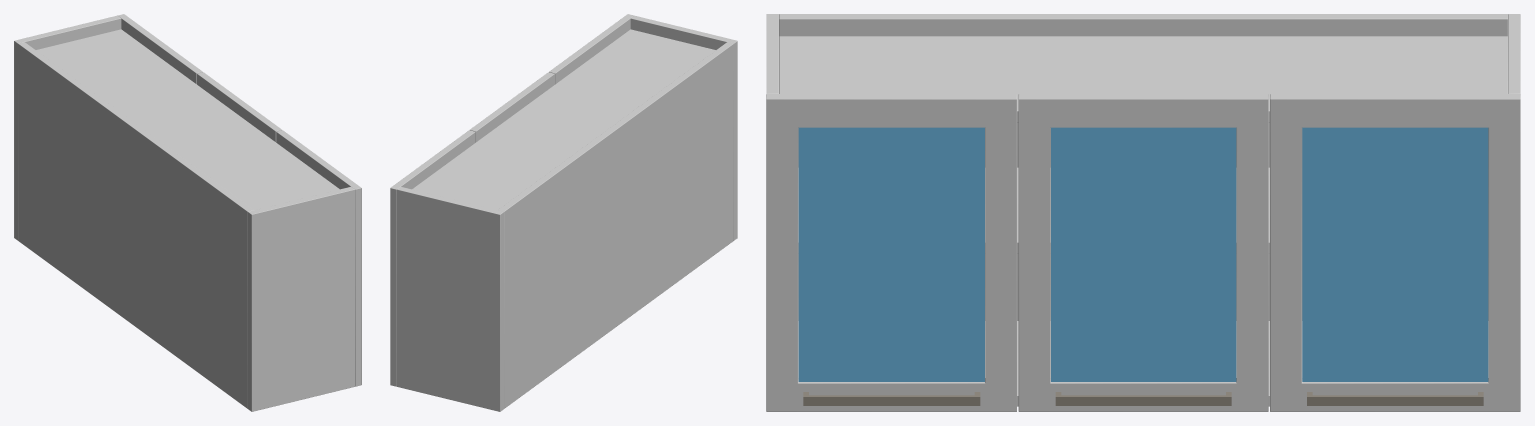
Rendered from box white.fbx.
The picture shows the model from 3 angles, left to right: view 1: azimuth 30°, elevation 25°; view 2: azimuth 150°, elevation 25°; view 3: azimuth 270°, elevation 25°; orthographic projection. The views are drawn at different scales.
Parts seen in each view (by area): view 1: cube; view 2: cube; view 3: cube.
Boxes of the visible parts, box(x1,y1,x2,y2) form: cube: box(14, 14, 361, 411); cube: box(390, 14, 737, 411); cube: box(766, 14, 1520, 411).
Bounding box in the file's own units: 66.88 × 108 × 236.
